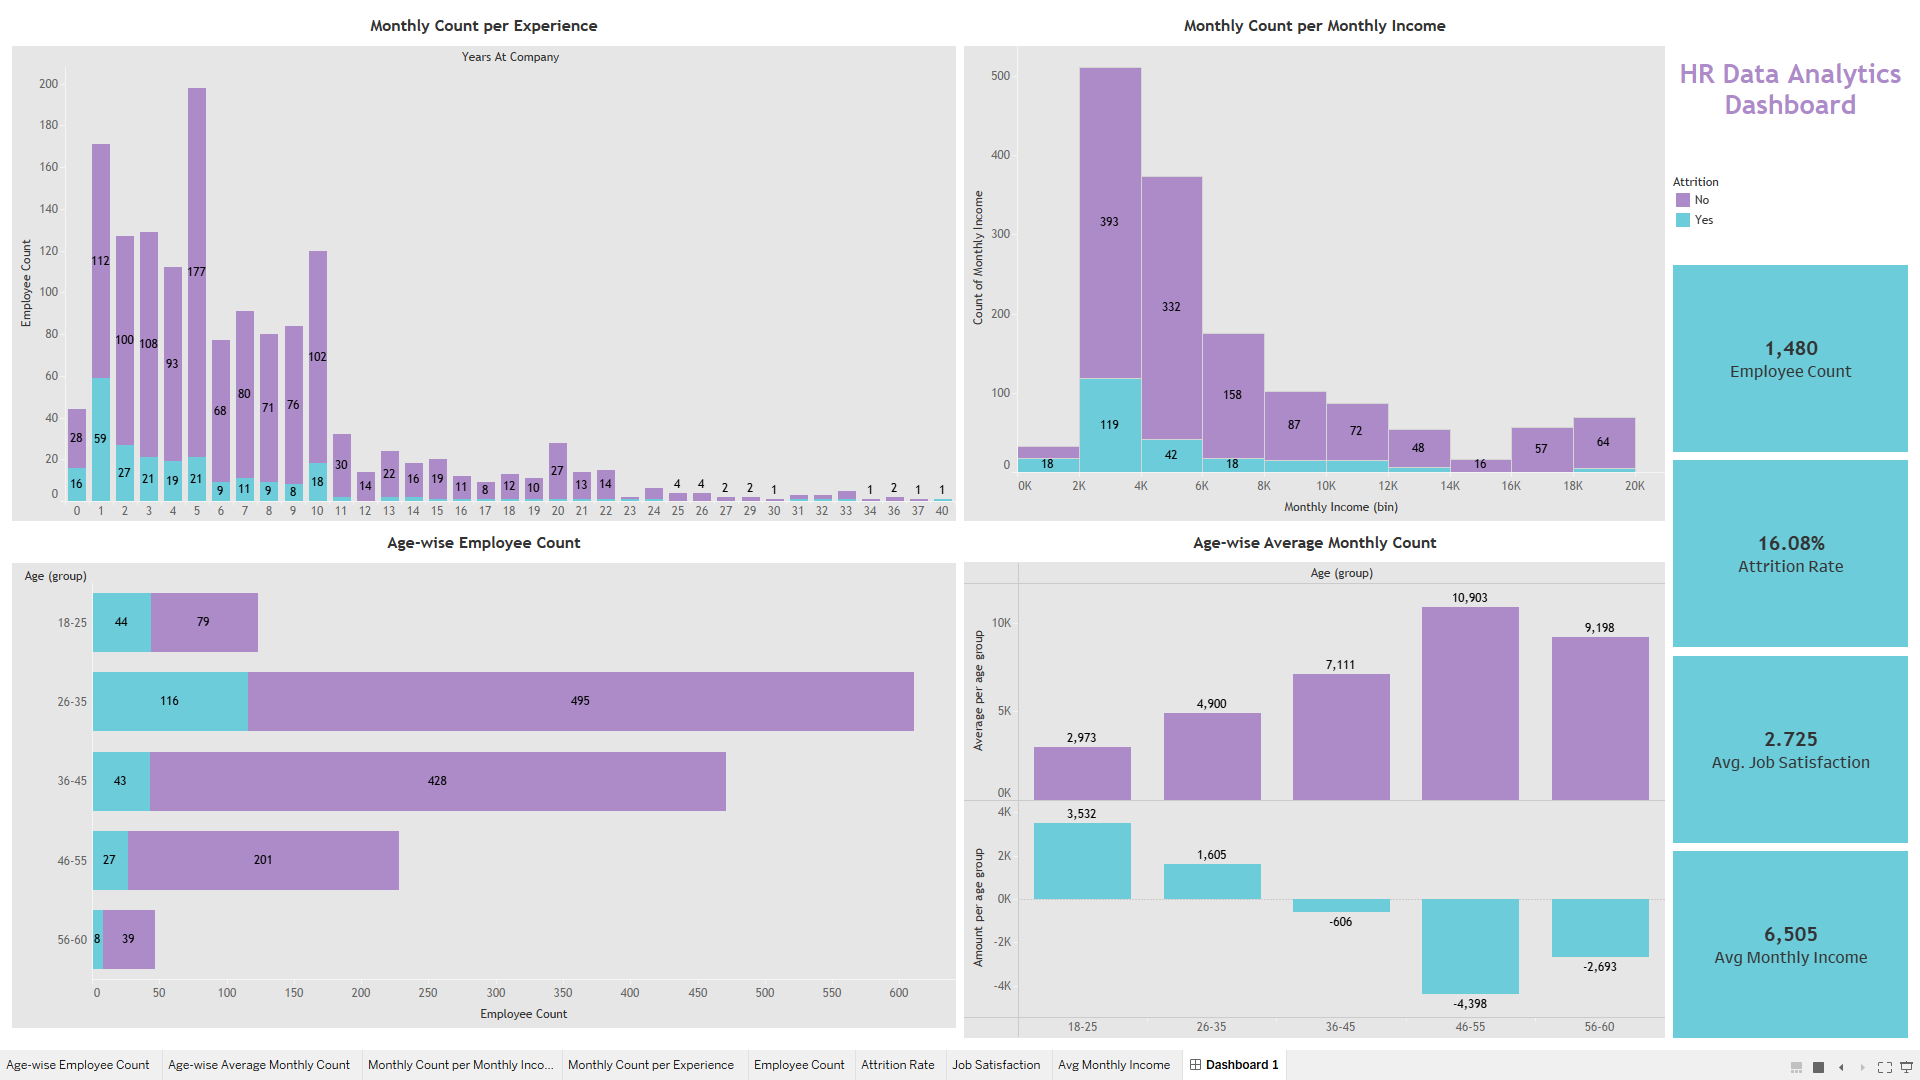

The dashboard page shown, as its layout file describes it:
{"tool":"tableau","page":{"name":"Dashboard 1","canvas":[1000,1000],"units":"permille","ordinal":0},"visuals":[{"type":"worksheet","title":"Monthly Count per Experience","mark":"Automatic","rows":["EmployeeCount"],"cols":["YearsAtCompany"],"box":[4.7,8.8,495.3,491.2]},{"type":"worksheet","title":"Monthly Count per Monthly Income","mark":"Automatic","rows":["MonthlyIncome"],"cols":["Monthly Income (bin)"],"box":[500,8.8,369.2,491.2]},{"type":"text","box":[869.1,8.8,126.2,155.4]},{"type":"legend","title":"Monthly Count per Experience","param":"[federated.0e2a7tf1o6cq4e17wsowp0s1xpgk].[none:Attrition:nk]","box":[869.1,164.2,126.2,85.2]},{"type":"worksheet","title":"Employee Count","mark":"Automatic","box":[869.1,249.4,126.2,185.4]},{"type":"worksheet","title":"Attrition Rate","mark":"Automatic","box":[869.1,434.8,126.2,185.4]},{"type":"worksheet","title":"Age-wise Employee Count","mark":"Automatic","cols":["EmployeeCount"],"box":[4.7,500,495.3,491.2]},{"type":"worksheet","title":"Age-wise Average Monthly Count","mark":"Automatic","rows":["Calculation_709316969047437313","Calculation_709316969047728130"],"box":[500,500,369.2,491.2]},{"type":"worksheet","title":"Job Satisfaction","mark":"Automatic","box":[869.1,620.3,126.2,185.4]},{"type":"worksheet","title":"Avg Monthly Income","mark":"Automatic","box":[869.1,805.7,126.2,185.4]}]}

Visuals, with their boxes on the dashboard's canvas, which has no fixed pixel size, in thousandths of its width and height (x1, y1, x2, y2). These are canvas units, not pixel positions in the 1920x1080 screenshot, which may show the page scaled, cropped or inside an application window:
"Monthly Count per Experience" worksheet: rect(5, 9, 500, 500)
"Monthly Count per Monthly Income" worksheet: rect(500, 9, 869, 500)
text: rect(869, 9, 995, 164)
"Monthly Count per Experience" legend: rect(869, 164, 995, 249)
"Employee Count" worksheet: rect(869, 249, 995, 435)
"Attrition Rate" worksheet: rect(869, 435, 995, 620)
"Age-wise Employee Count" worksheet: rect(5, 500, 500, 991)
"Age-wise Average Monthly Count" worksheet: rect(500, 500, 869, 991)
"Job Satisfaction" worksheet: rect(869, 620, 995, 806)
"Avg Monthly Income" worksheet: rect(869, 806, 995, 991)
